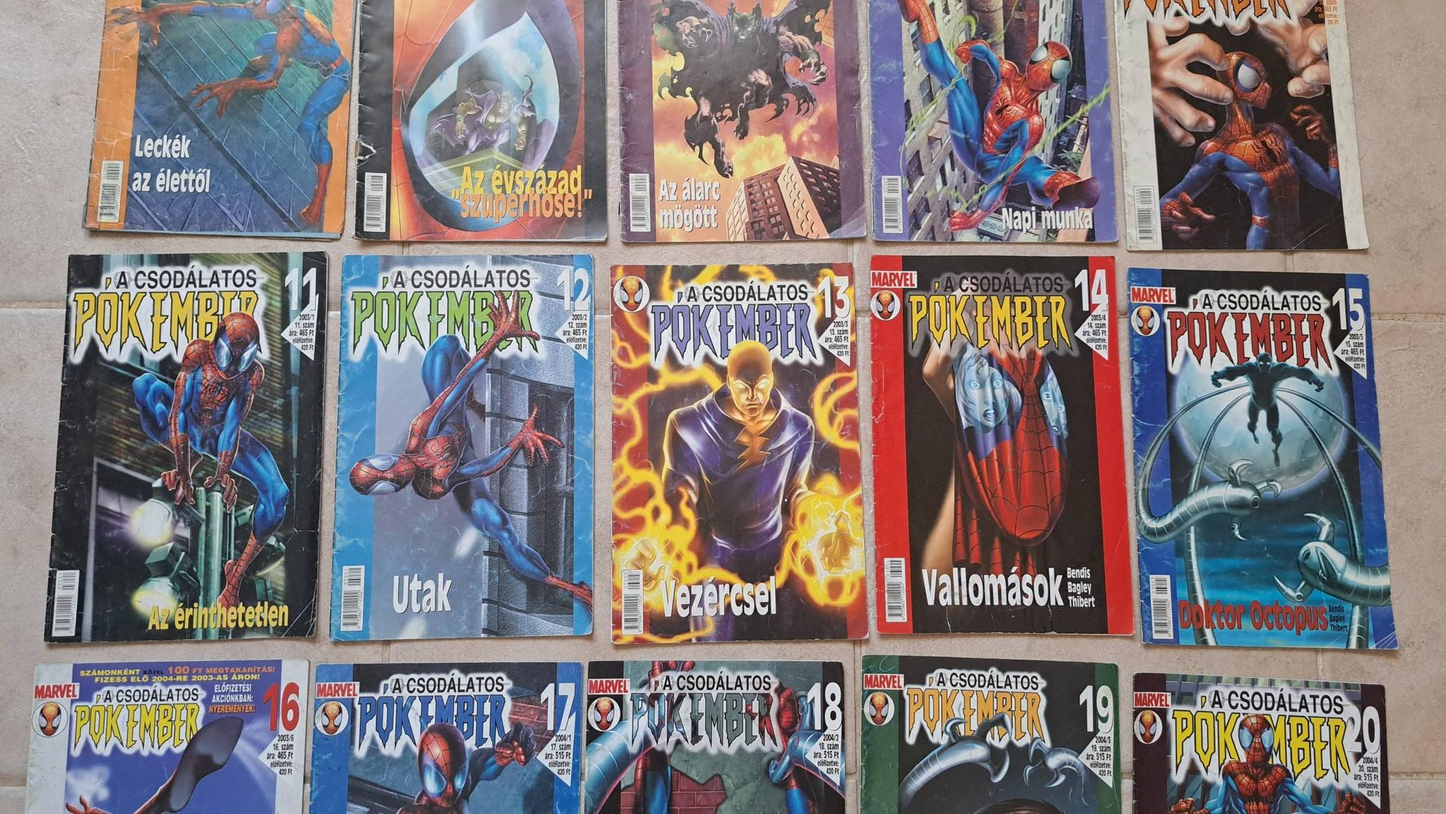comic: (45, 245, 328, 649), (1127, 261, 1397, 656), (868, 251, 1133, 638), (331, 255, 593, 640), (607, 264, 866, 643), (85, 0, 355, 239), (1116, 0, 1366, 251), (355, 0, 607, 240), (617, 0, 866, 242), (869, 0, 1116, 241), (25, 660, 308, 813), (309, 662, 584, 813), (860, 656, 1122, 813), (583, 661, 845, 813), (1135, 674, 1390, 813)
